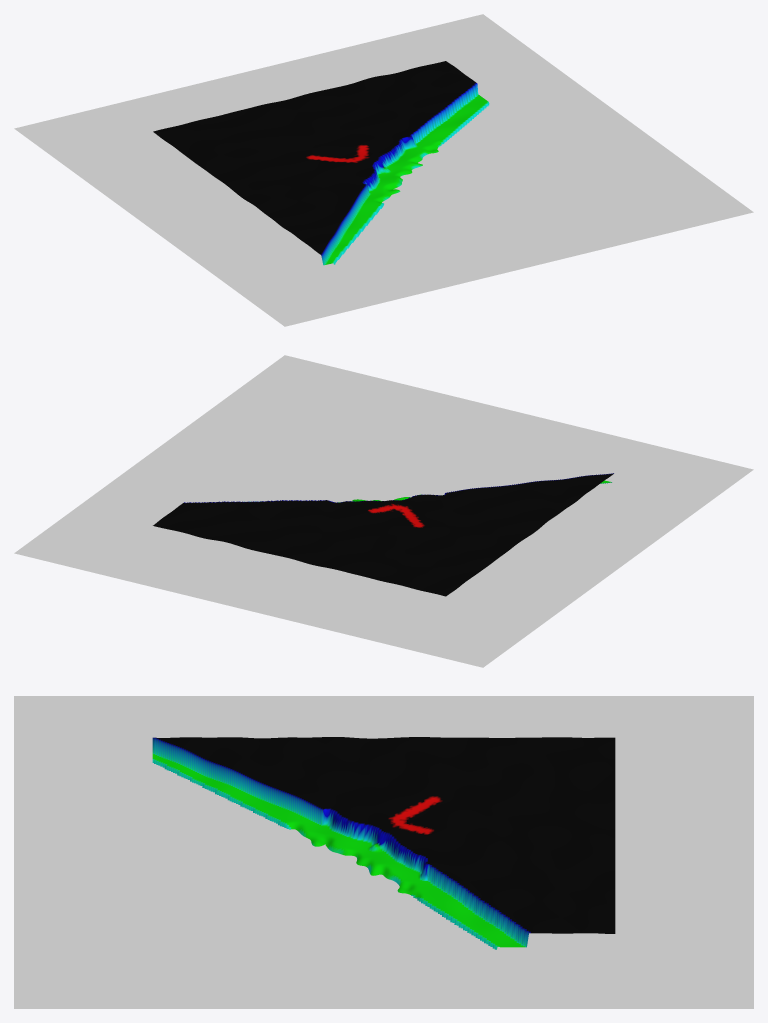
The model's file is terrain.glb.
3 views of the same model, one above another, from view 1: azimuth 30°, elevation 25°; view 2: azimuth 150°, elevation 25°; view 3: azimuth 270°, elevation 25° (orthographic). The views are drawn at different scales.
Visible parts, largest first — view 1: water, terrain; view 2: water, terrain; view 3: water, terrain.
Part boxes in pixels (<box>): water: <box>14,14,753,326</box>; terrain: <box>153,61,489,265</box>; water: <box>14,355,753,667</box>; terrain: <box>153,473,613,596</box>; water: <box>14,696,753,1008</box>; terrain: <box>152,737,615,949</box>.
Bounding box in the file's own units: 176 × 6.56 × 176.
